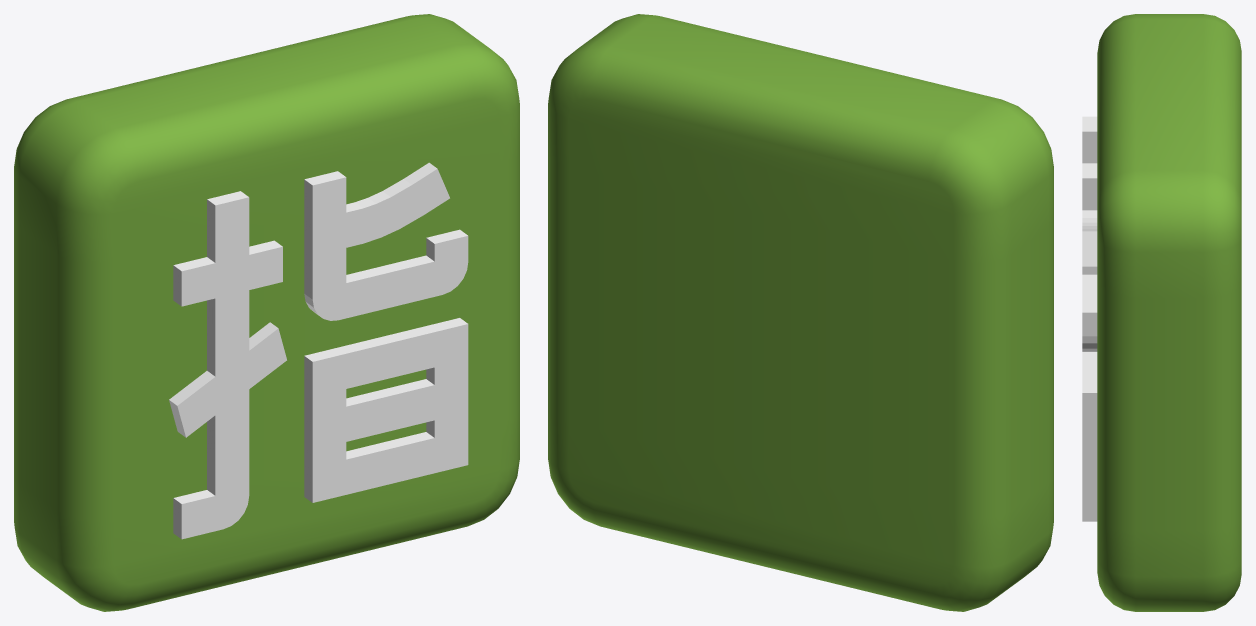
The model's file is japanese_reserved_button.glb.
3 renders of one model, left to right at view 1: azimuth 30°, elevation 25°; view 2: azimuth 150°, elevation 25°; view 3: azimuth 270°, elevation 25°, orthographic. The views are drawn at different scales.
Visible parts, largest first — view 1: Cube.6653, Plane.362; view 2: Cube.6653; view 3: Cube.6653, Plane.362.
Part boxes in pixels (x1=…): Cube.6653: x1=14, y1=14, x2=519, y2=611; Plane.362: x1=169, y1=162, x2=468, y2=539; Cube.6653: x1=548, y1=14, x2=1053, y2=611; Cube.6653: x1=1097, y1=14, x2=1241, y2=611; Plane.362: x1=1082, y1=116, x2=1097, y2=521.
Size of the model in its own units: 2.2 by 2.2 by 0.73.
1 material, 1 textured.
